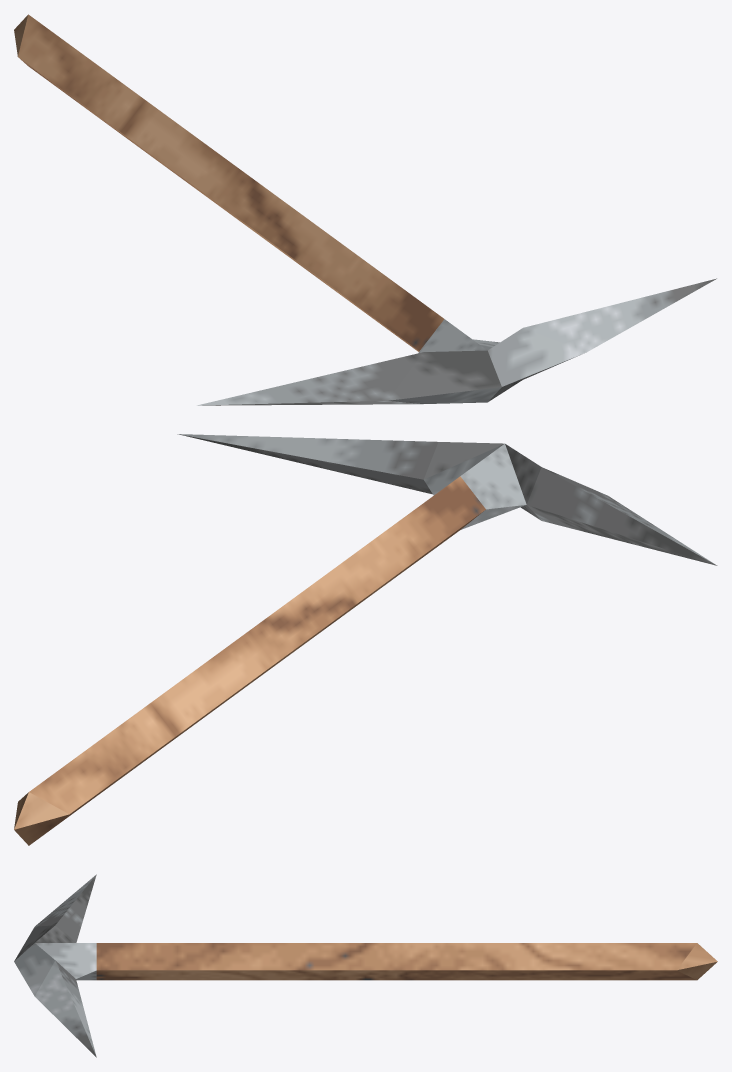
The model's file is Pickaxe.obj.
3 views of the same model, one above another, from view 1: azimuth 30°, elevation 25°; view 2: azimuth 150°, elevation 25°; view 3: azimuth 270°, elevation 25° (orthographic). The views are drawn at different scales.
Parts seen in each view (by area): view 1: Pickaxe; view 2: Pickaxe; view 3: Pickaxe.
Part boxes in pixels (<box>): Pickaxe: <box>14,14,716,405</box>; Pickaxe: <box>14,434,717,845</box>; Pickaxe: <box>14,874,717,1057</box>.
Size of the model in its own units: 2.1 by 0.2 by 3.4.
